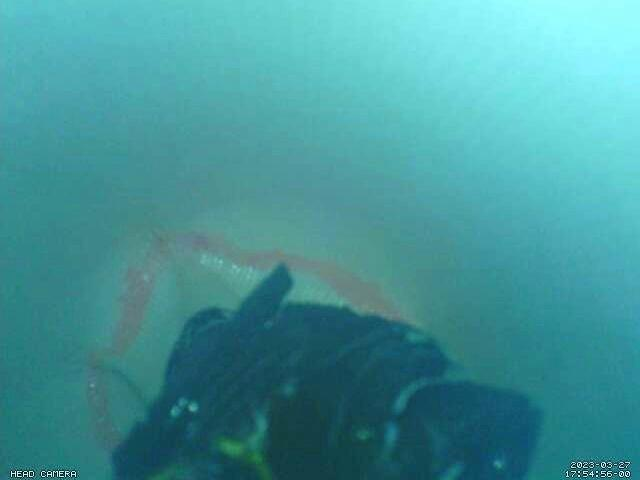head: (86, 226, 405, 454)
